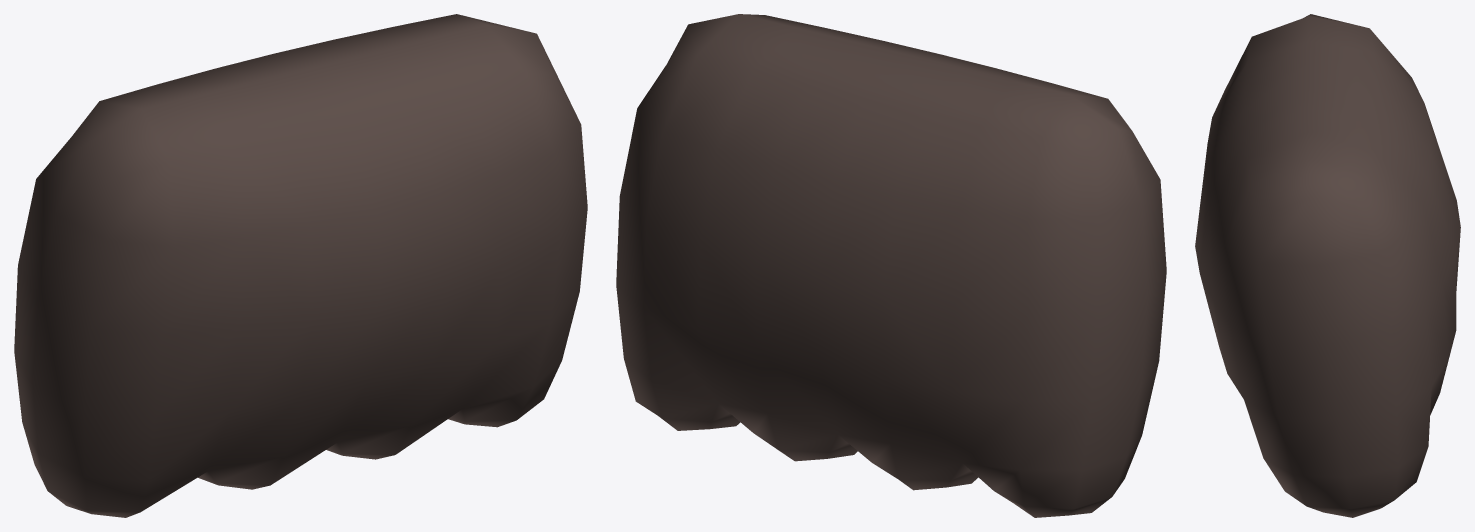
File: Mustache_13.glb
The picture shows the model from 3 angles, left to right: view 1: azimuth 30°, elevation 25°; view 2: azimuth 150°, elevation 25°; view 3: azimuth 270°, elevation 25°; orthographic projection. The views are drawn at different scales.
Parts seen in each view (by area): view 1: Mustache_13; view 2: Mustache_13; view 3: Mustache_13.
Boxes of the visible parts, x1,y1,x2,y2 form: Mustache_13: [14, 14, 587, 517]; Mustache_13: [616, 14, 1166, 517]; Mustache_13: [1195, 14, 1460, 517].
Bounding box in the file's own units: 0.0706 × 0.0523 × 0.0364.
1 material, 1 textured.
